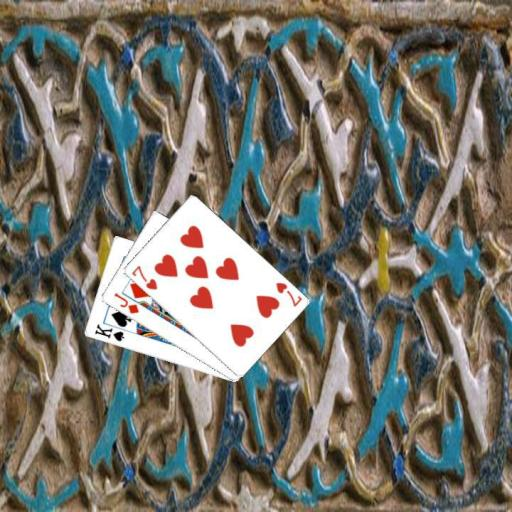7H: (272, 279, 304, 308), (128, 263, 159, 292)
JD: (110, 289, 140, 315)
KS: (91, 321, 125, 343)
